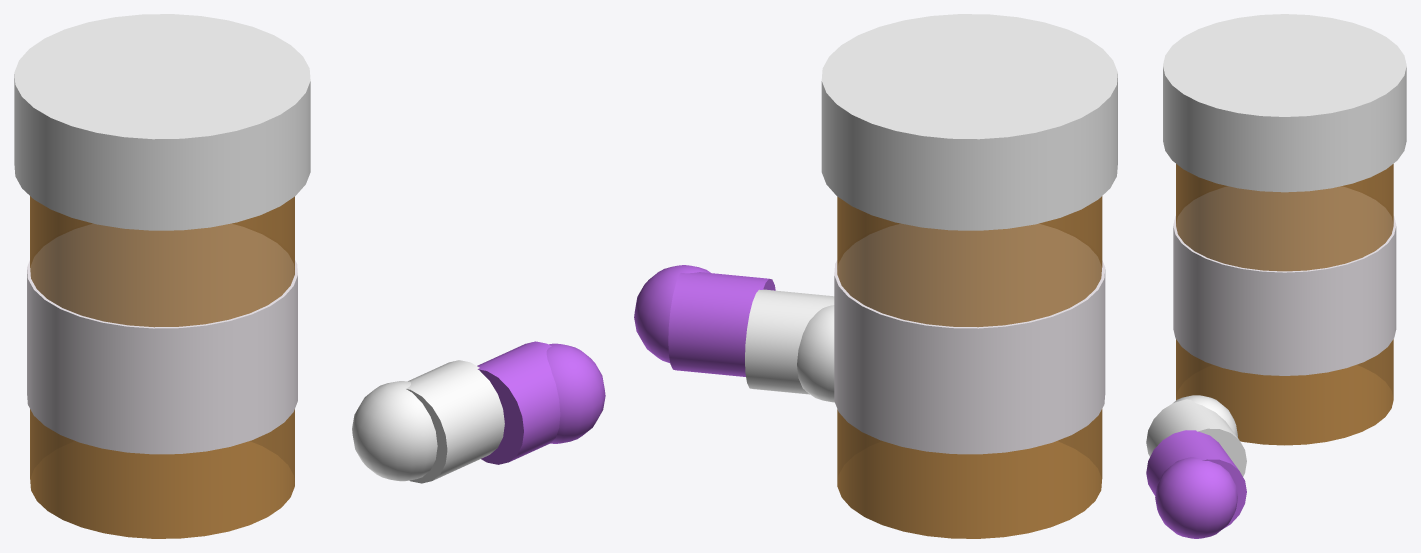
The model's file is Item_MysteryPill.fbx.
3 views of the same model, side by side, from view 1: azimuth 30°, elevation 25°; view 2: azimuth 150°, elevation 25°; view 3: azimuth 270°, elevation 25° (orthographic). The views are drawn at different scales.
Visible parts, largest first — view 1: Pill_Label, Pill_Cap, Pill_Bottle, Pill_Half1, Pill_Half0; view 2: Pill_Label, Pill_Cap, Pill_Bottle, Pill_Half0, Pill_Half1; view 3: Pill_Label, Pill_Cap, Pill_Bottle, Pill_Half0, Pill_Half1.
Part boxes in pixels (box(x1,y1,x2,y2)): Pill_Label: box(27, 224, 297, 454); Pill_Cap: box(14, 14, 310, 230); Pill_Bottle: box(30, 196, 294, 538); Pill_Half1: box(352, 360, 504, 483); Pill_Half0: box(477, 341, 605, 464); Pill_Label: box(834, 224, 1105, 454); Pill_Cap: box(821, 14, 1117, 230); Pill_Bottle: box(837, 196, 1102, 538); Pill_Half0: box(634, 265, 775, 376); Pill_Half1: box(745, 289, 834, 402); Pill_Label: box(1173, 187, 1396, 375); Pill_Cap: box(1163, 14, 1406, 192); Pill_Bottle: box(1176, 164, 1393, 445); Pill_Half0: box(1146, 430, 1246, 538); Pill_Half1: box(1146, 395, 1246, 476).
Bounding box in the file's own units: 0.0935 × 0.071 × 0.0502.
